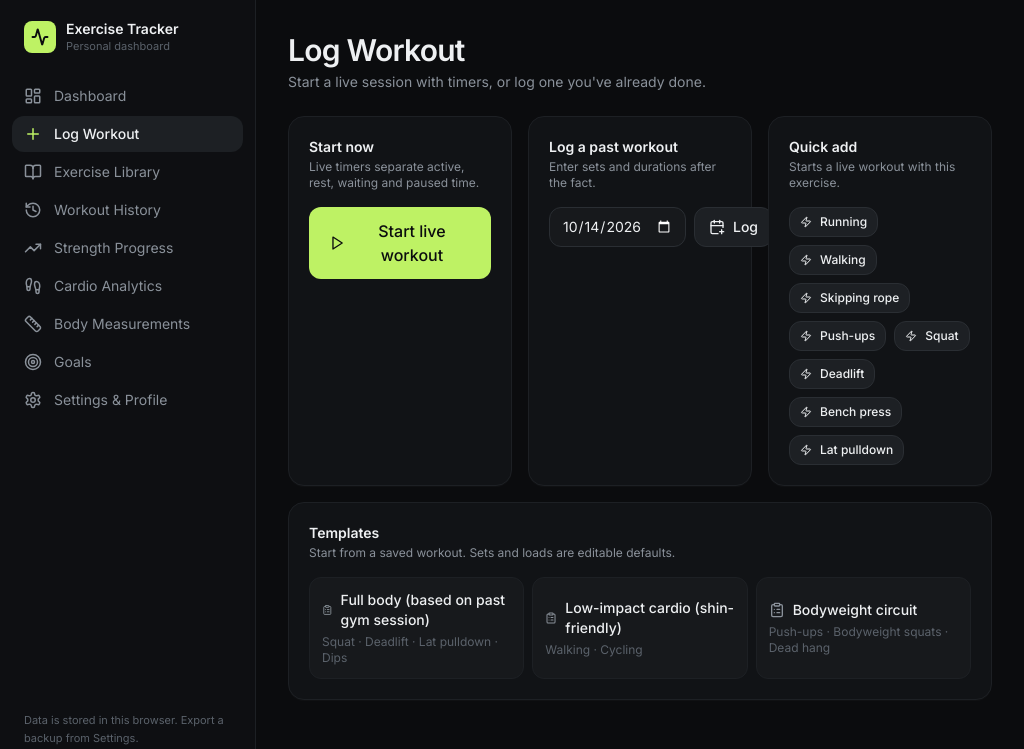
Test case: workflows › blocks saving an empty workout with a clear validation error
This screenshot has width=1024, height=749.
Click the button "Start live workout".
click(400, 243)  # box [309,207,491,279]
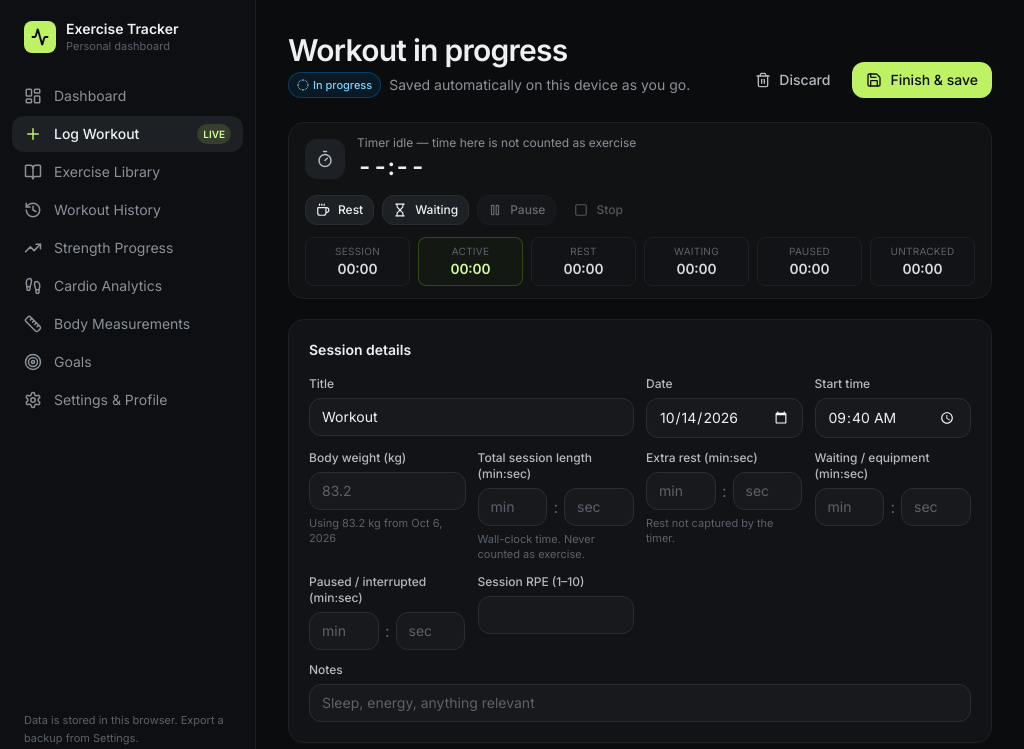
Click the button "Finish & save".
click(922, 80)  # box [852,62,992,98]
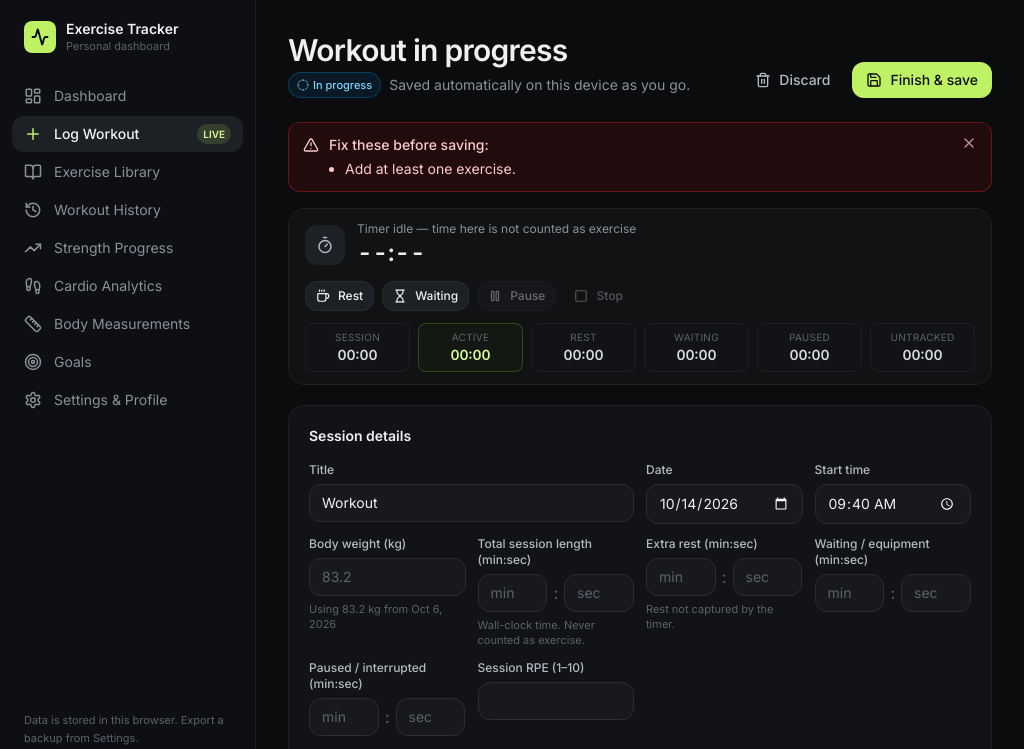
Expected: the list item "Add at least one exercise." is shown, [345,160,516,177]
